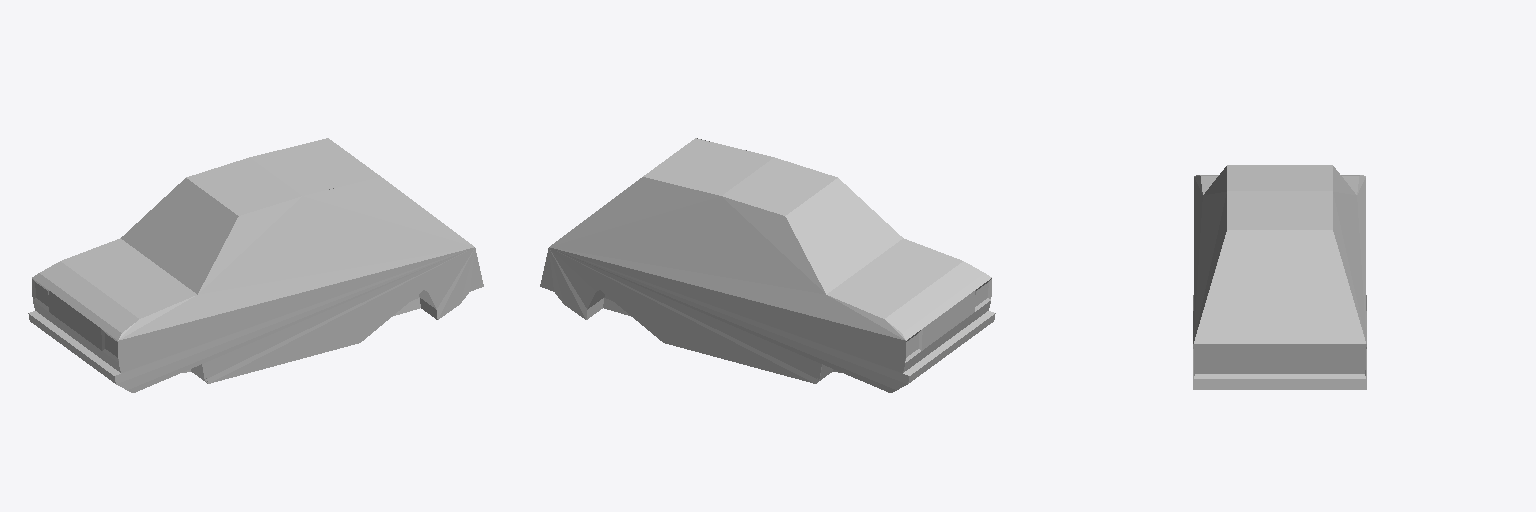
Rendered from TONY (proper version).obj.
The picture shows the model from 3 angles: view 1: azimuth 30°, elevation 25°; view 2: azimuth 150°, elevation 25°; view 3: azimuth 270°, elevation 25°; orthographic projection.
Parts seen in each view (by area): view 1: Cube; view 2: Cube; view 3: Cube.
Boxes of the visible parts, x1=… form: Cube: x1=28, y1=138, x2=483, y2=392; Cube: x1=540, y1=138, x2=995, y2=392; Cube: x1=1193, y1=165, x2=1366, y2=389.
Size of the model in its own units: 3.16 by 1.22 by 1.29.